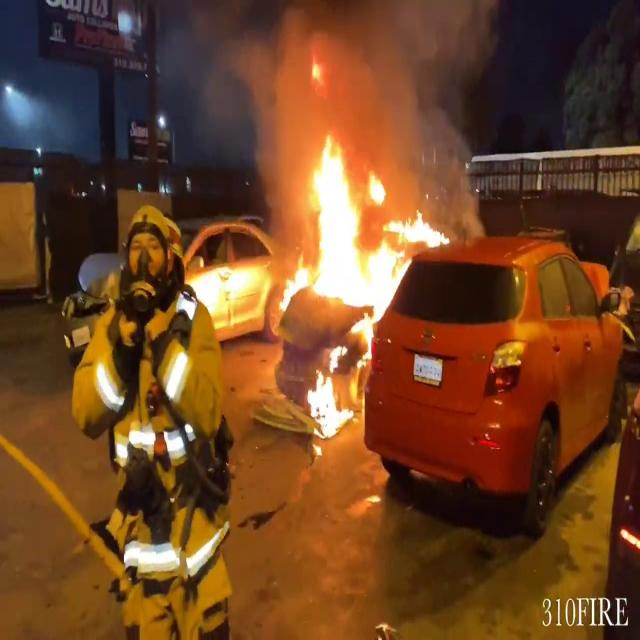Fire: (282, 129, 440, 435)
Smoke: (216, 0, 503, 165)
